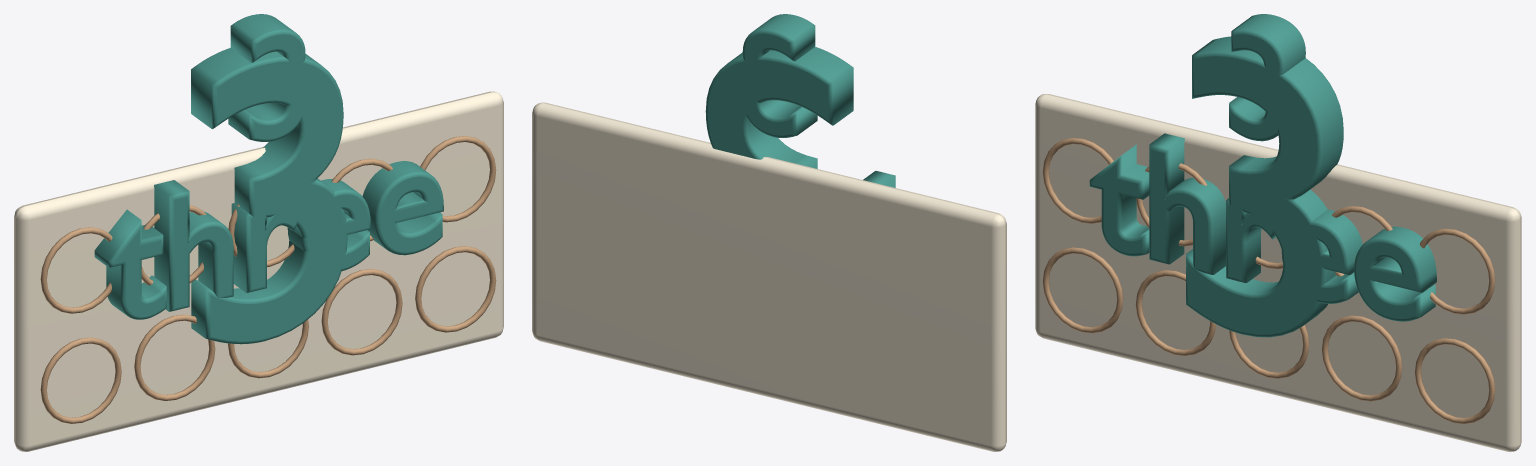
File: number-3.glb
3 views of the same model, side by side, from view 1: azimuth 30°, elevation 25°; view 2: azimuth 150°, elevation 25°; view 3: azimuth 330°, elevation 25° (orthographic). The views are drawn at different scales.
Visible parts, largest first — view 1: ten frame tray, number solid, number word, counting numeral, counting slot.009, counting slot.005, counting slot.008, counting slot.006, counting slot, counting slot.004, counting slot.007, counting slot.001; view 2: ten frame tray, number solid, counting numeral; view 3: ten frame tray, number word, number solid, counting numeral, counting slot.009, counting slot.008, counting slot.005, counting slot.004, counting slot.006, counting slot, counting slot.007, counting slot.001 (+1 smaller).
Boxes of the visible parts, x1,y1,x2,y2 form: ten frame tray: (14, 91, 503, 451); number solid: (191, 47, 347, 344); number word: (94, 161, 443, 319); counting numeral: (228, 14, 305, 141); counting slot.009: (415, 246, 496, 332); counting slot.005: (40, 337, 121, 423); counting slot.008: (321, 269, 402, 355); counting slot.006: (134, 314, 215, 400); counting slot: (40, 227, 112, 313); counting slot.004: (420, 136, 496, 222); counting slot.007: (228, 319, 308, 378); counting slot.001: (141, 205, 206, 285); ten frame tray: (532, 102, 1006, 451); number solid: (705, 46, 853, 168); counting numeral: (742, 14, 817, 137); ten frame tray: (1035, 94, 1521, 451); number word: (1089, 133, 1436, 321); number solid: (1186, 36, 1343, 337); counting numeral: (1229, 14, 1305, 141); counting slot.009: (1415, 338, 1495, 423); counting slot.008: (1321, 315, 1402, 401); counting slot.005: (1042, 247, 1123, 333); counting slot.004: (1420, 228, 1495, 314); counting slot.006: (1135, 270, 1215, 355); counting slot: (1042, 138, 1113, 223); counting slot.007: (1229, 325, 1309, 378); counting slot.001: (1136, 163, 1207, 246).
Size of what is drawn, in the model's own units: 2.08 by 1.55 by 0.2.
